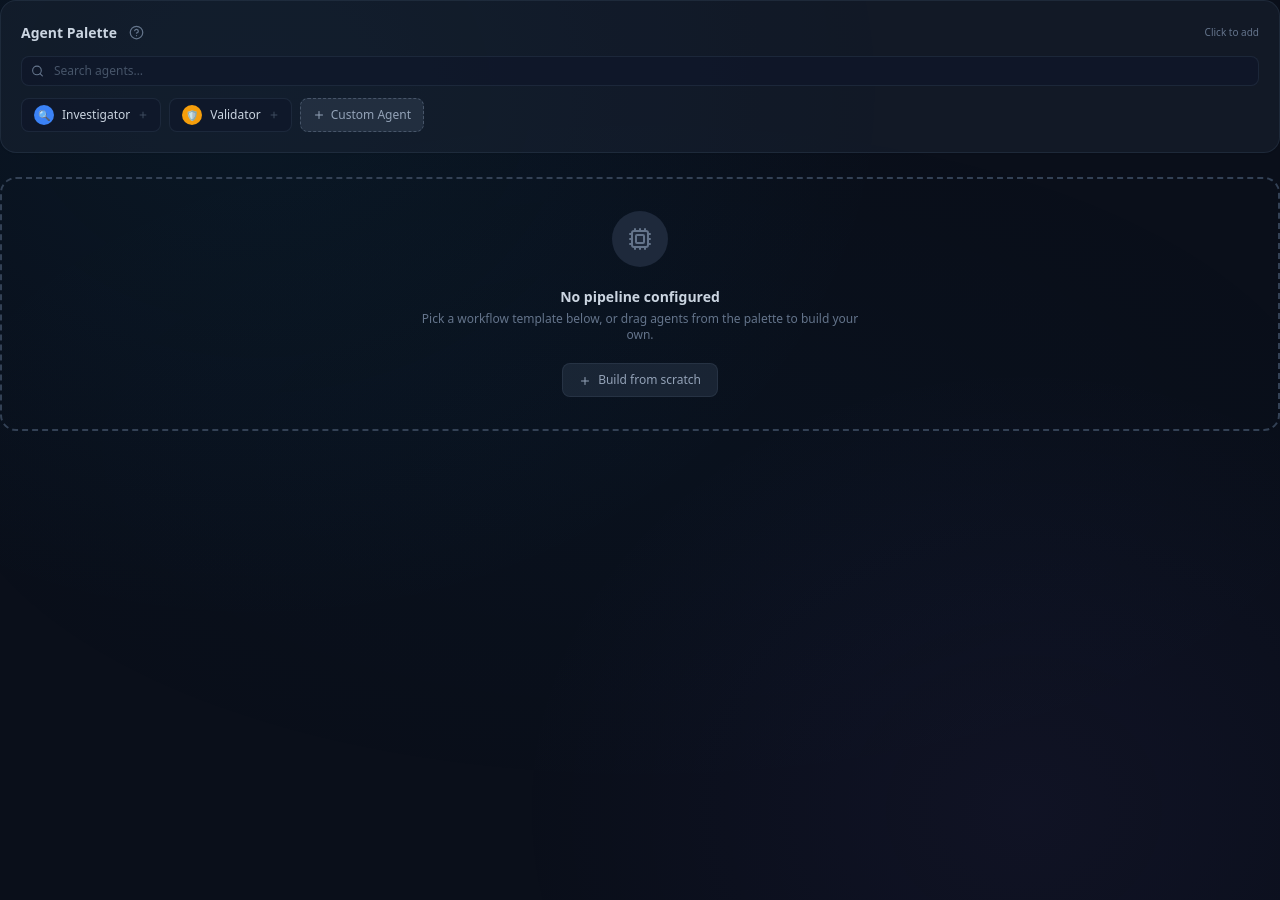
PipelineBuilder – AgentModal Save to Library › shows Save to Library button in the add agent modal for file/inline agents
The image size is (1280, 900).
Click the button "Custom Agent".
click(362, 115)  # box [300,98,424,132]
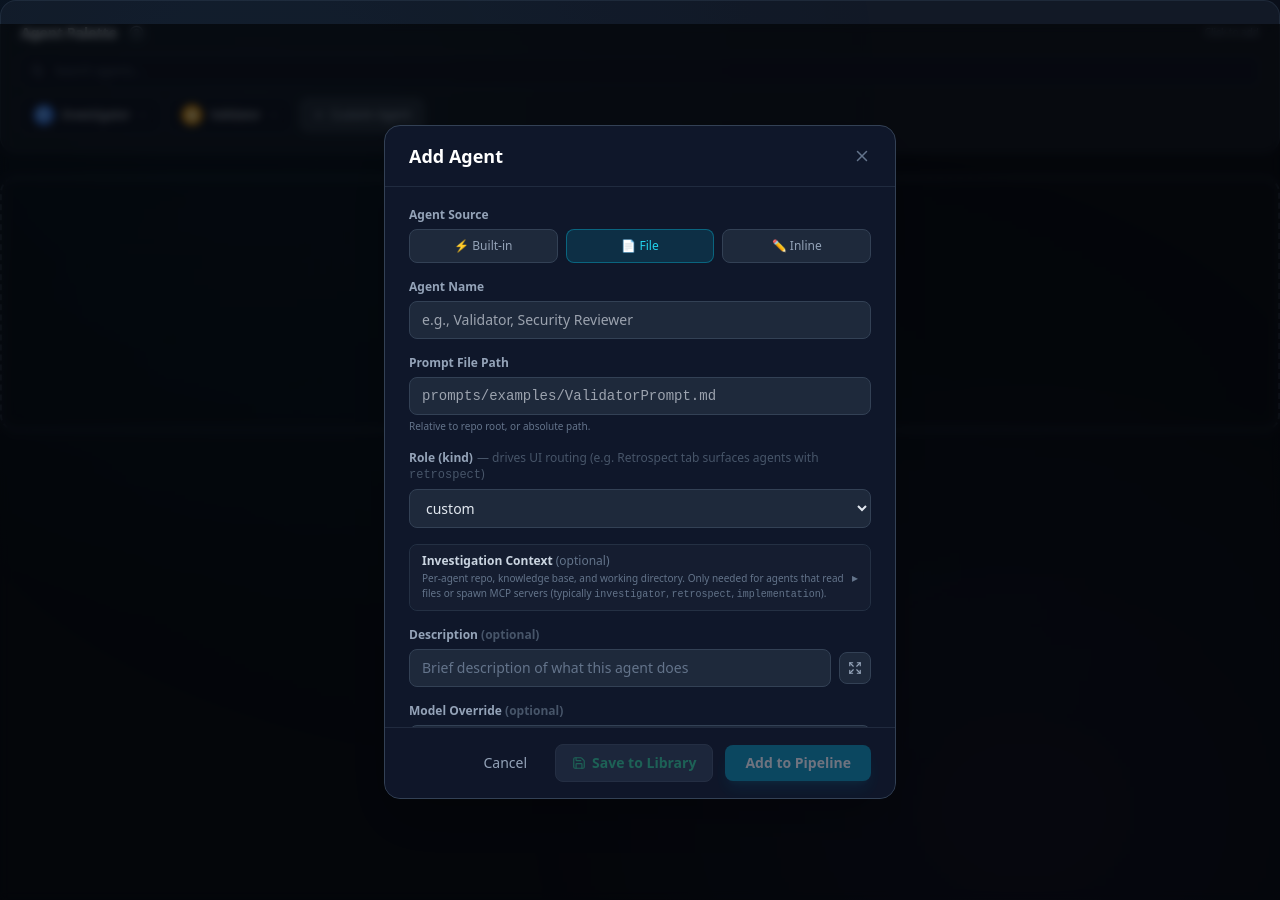
Result: the heading "Add Agent" is shown at [409,142,503,170]
Result: the button "Save to Library" is shown at [555,744,713,782]
